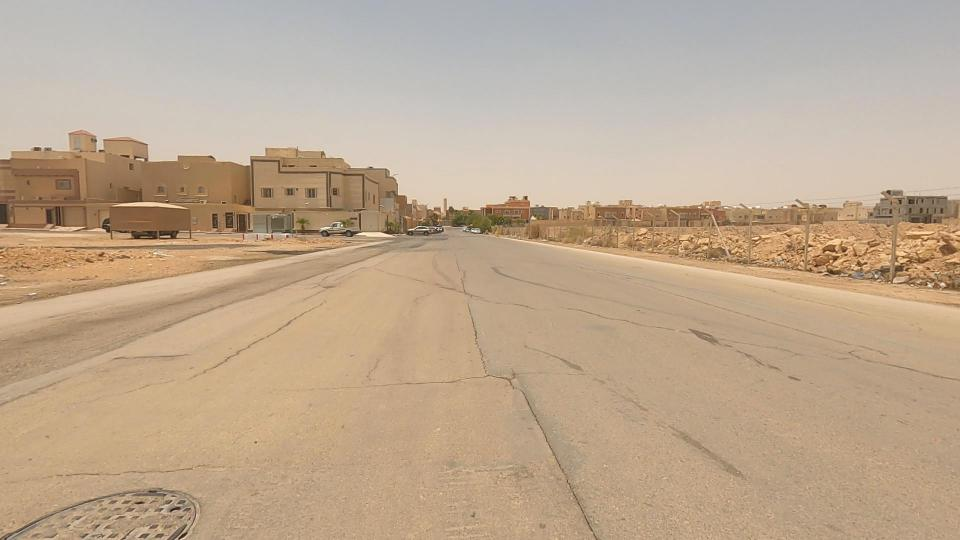GARBAGE: (823, 248, 897, 304), (134, 232, 186, 285)
